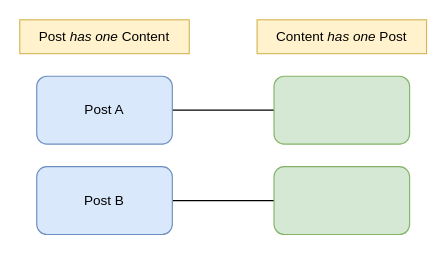
Image size: 446x254. Some labels were removed from this diagram. The shapes that lost their labels are listed below. From the top down, each one's centre as x and y in pixels, then its label:
At point (341, 109): "Content of A".
At point (341, 200): "Content of B".
